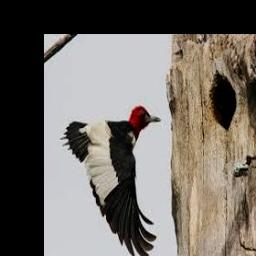Woodpecker: (59, 106, 160, 256)
